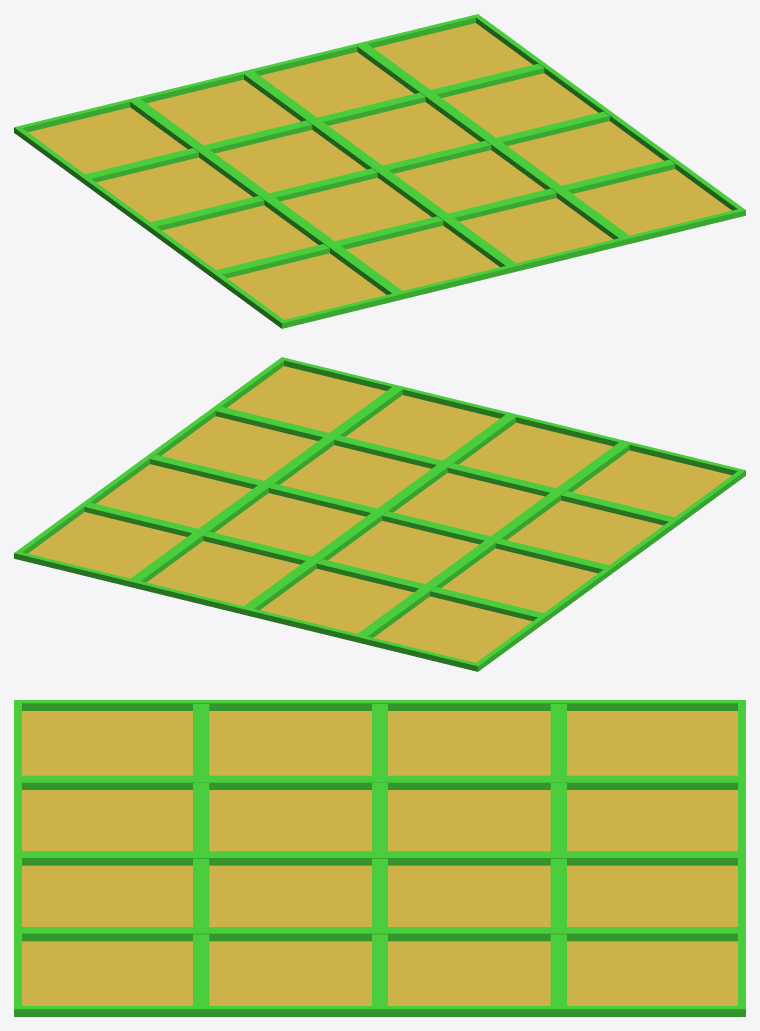
The model's file is Floor_05.fbx.
The picture shows the model from 3 angles, top to bottom: view 1: azimuth 30°, elevation 25°; view 2: azimuth 150°, elevation 25°; view 3: azimuth 270°, elevation 25°; orthographic projection. The views are drawn at different scales.
Visible parts, largest first — view 1: Floor_05; view 2: Floor_05; view 3: Floor_05.
Boxes of the visible parts, x1,y1,x2,y2 form: Floor_05: (14,14,745,328); Floor_05: (14,357,745,671); Floor_05: (14,700,745,1016).
Bounding box in the file's own units: 457 × 5.23 × 457.
